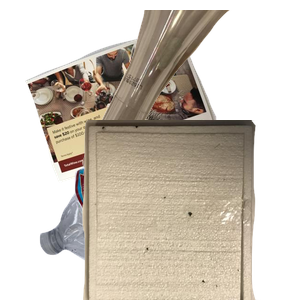glass: (80, 10, 300, 182)
paper: (23, 24, 232, 199)
plastic: (37, 144, 265, 300)
trash: (80, 120, 300, 300)
